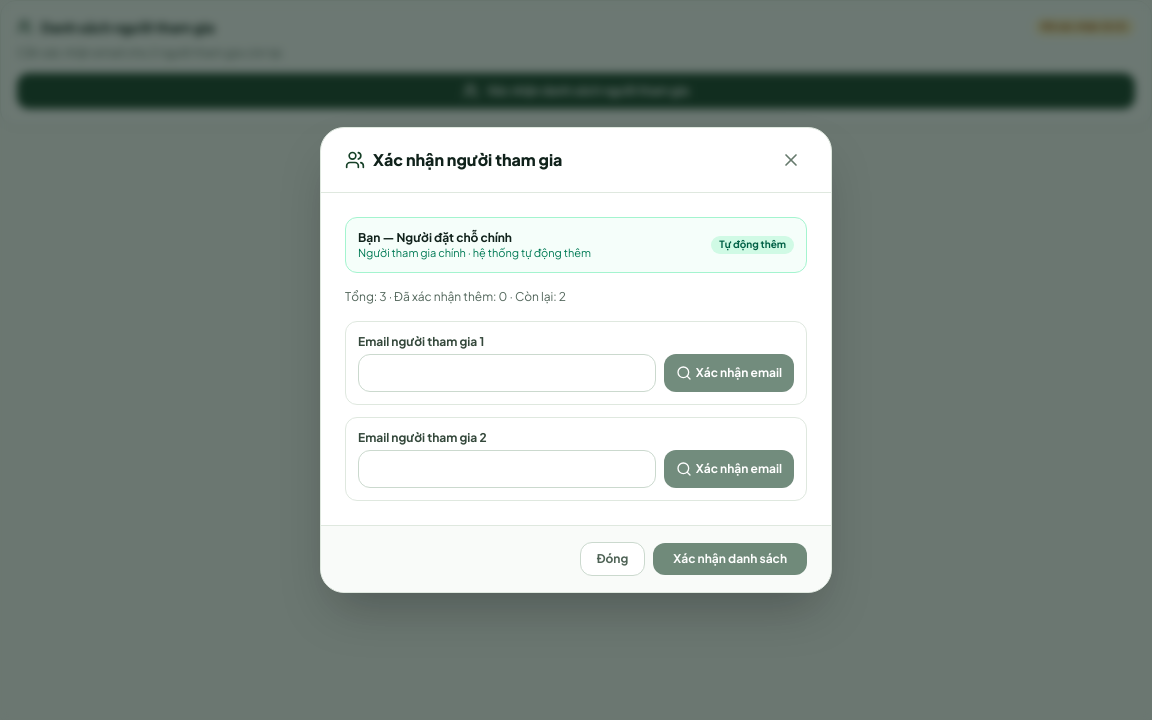
Test case: InitializeBookingMembersPanel › rejects the Booking owner and duplicate resolved participants
Type "owner@example.com" into the field labelled "Email người tham gia 1" at (507, 373), box [358, 354, 656, 392]
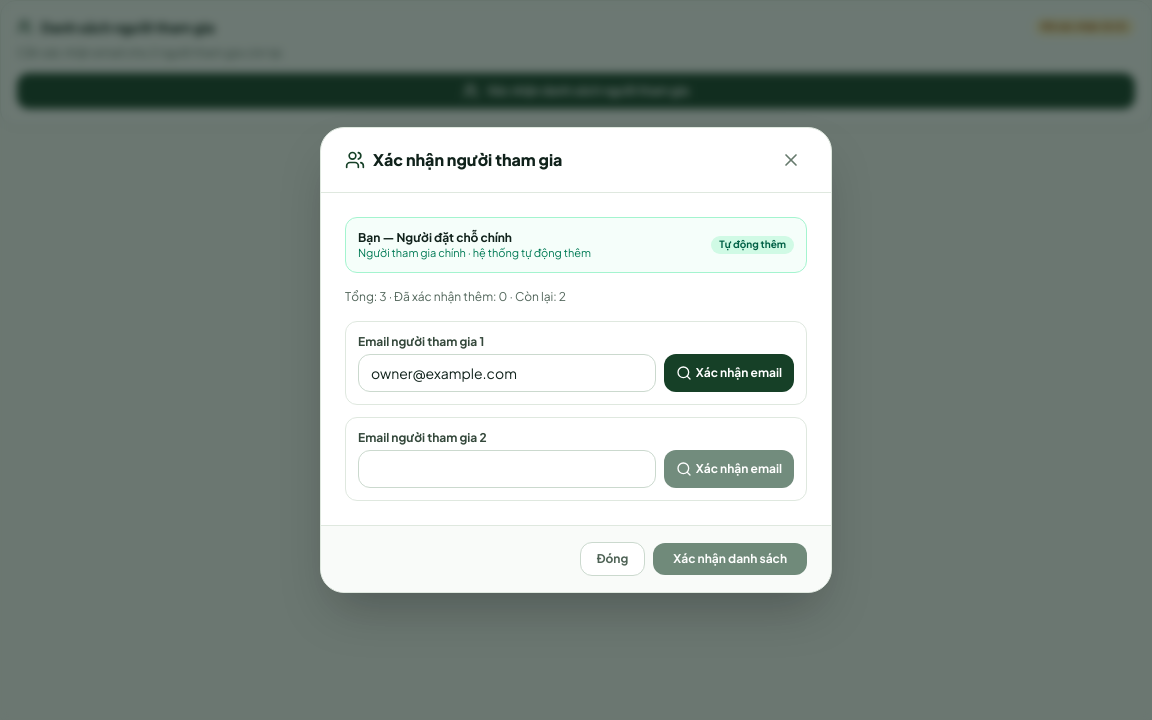
Click the 1st button "Xác nhận email" at (729, 373), box [664, 354, 794, 392]
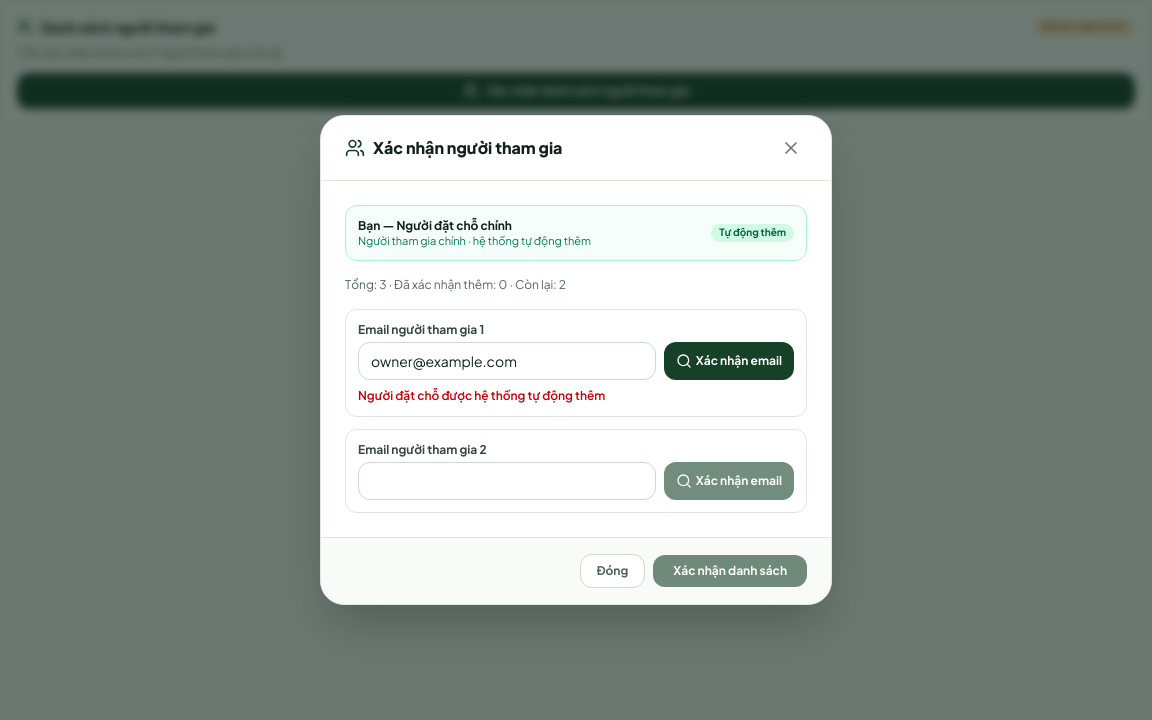
Result: the message shows "tự động thêm" at [358, 388, 605, 403]
Replace the text in the field labelled "Email người tham gia 1" with "first@example.com" at (507, 361), box [358, 342, 656, 380]
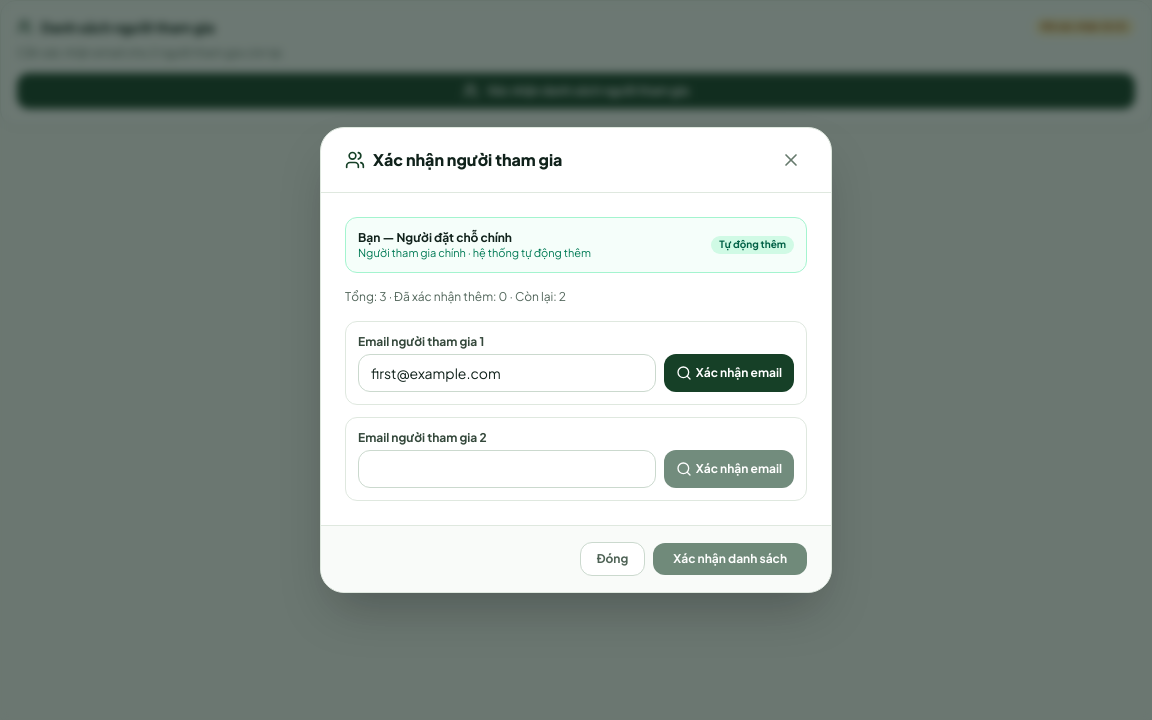
Click the 1st button "Xác nhận email" at (729, 373), box [664, 354, 794, 392]
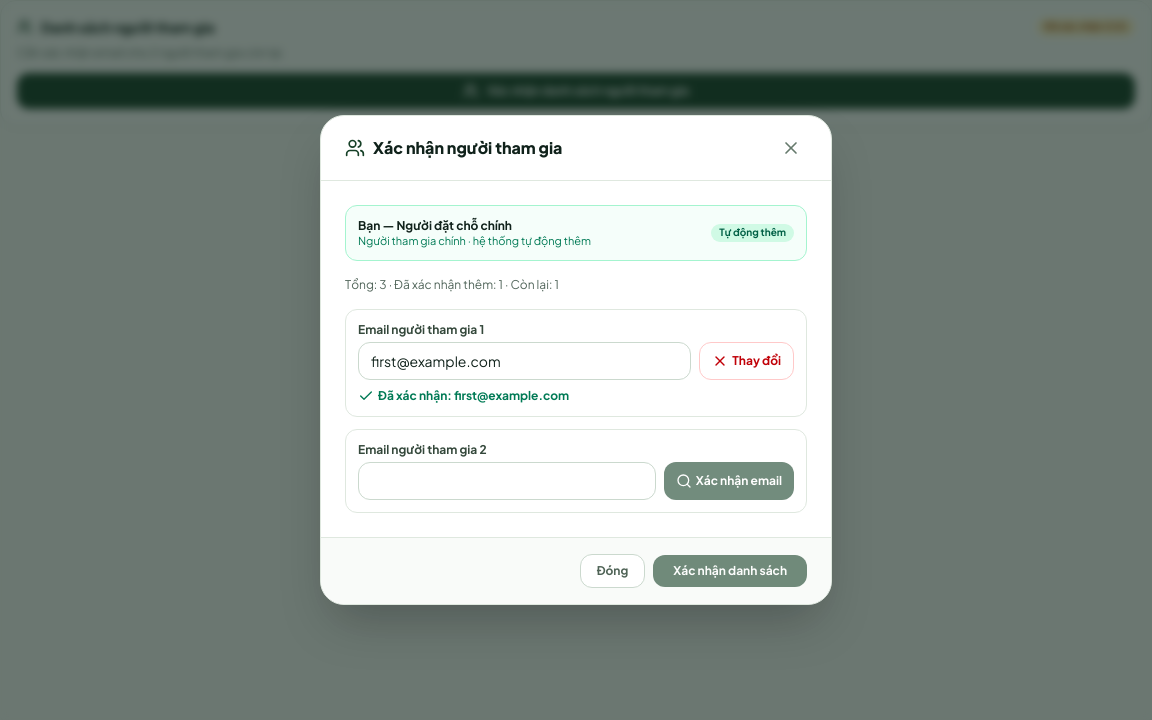
Result: the text "Đã xác nhận: first@example.com" is shown at [358, 388, 569, 404]
Type "second@example.com" into the field labelled "Email người tham gia 2" at (507, 481), box [358, 462, 656, 500]
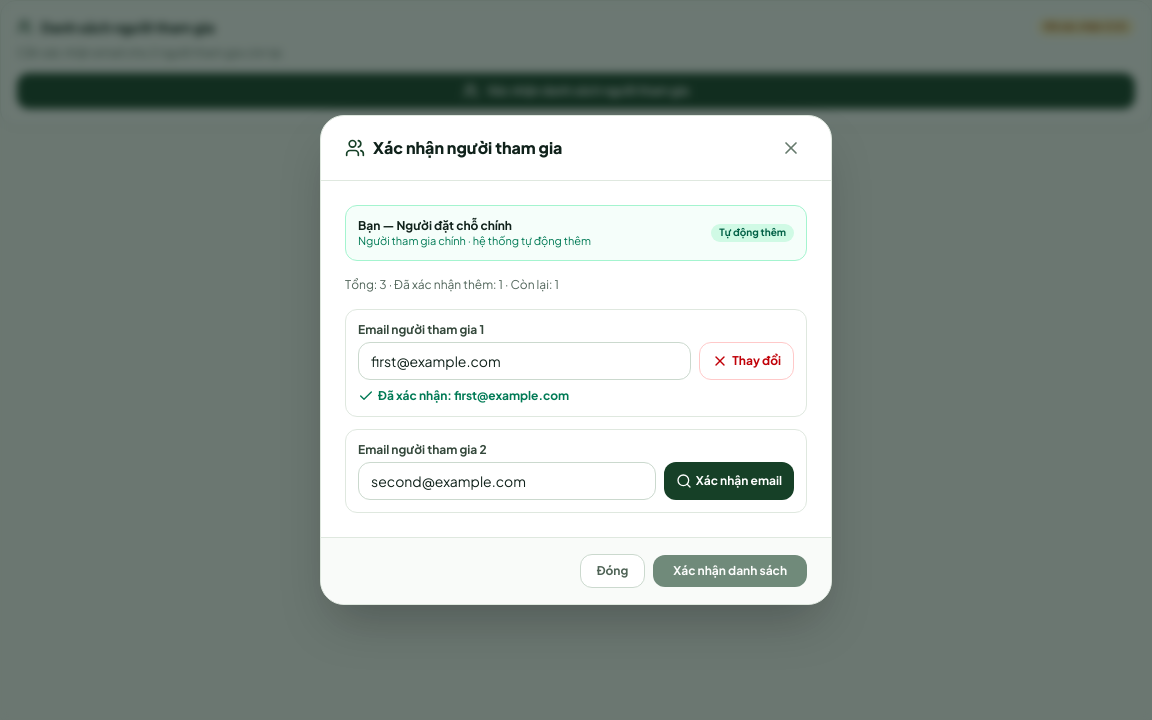
Click the button "Xác nhận email" at (729, 481), box [664, 462, 794, 500]
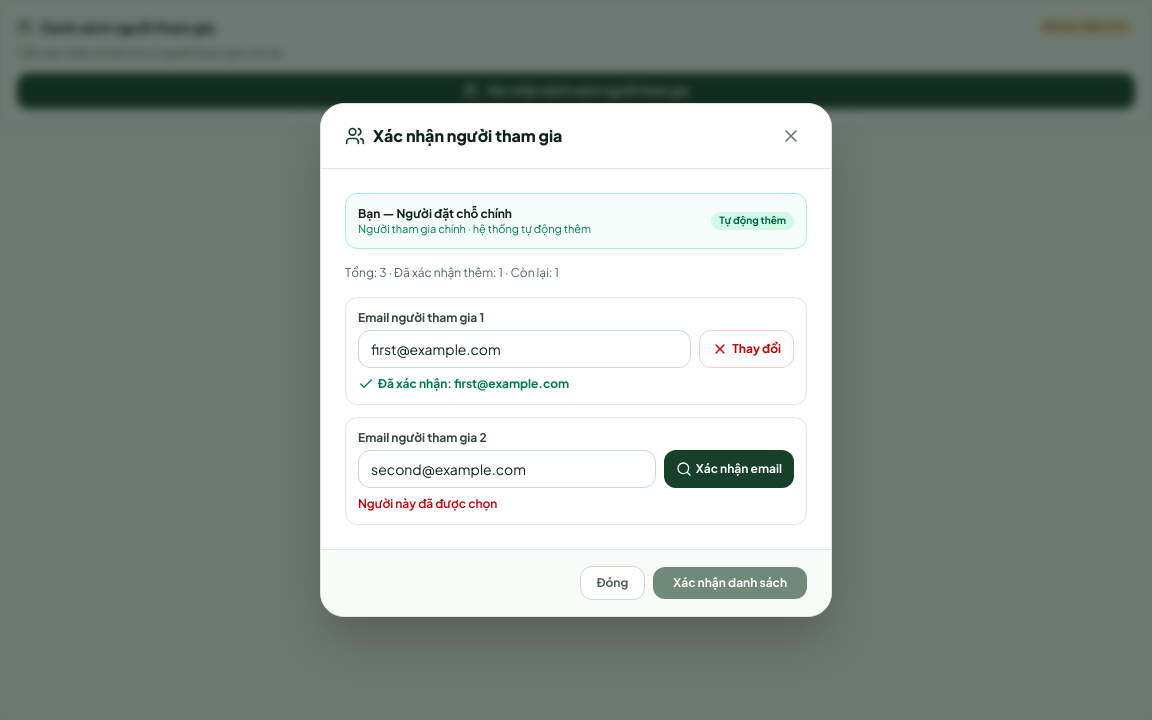
Result: the message shows "đã được chọn" at [358, 496, 497, 511]
